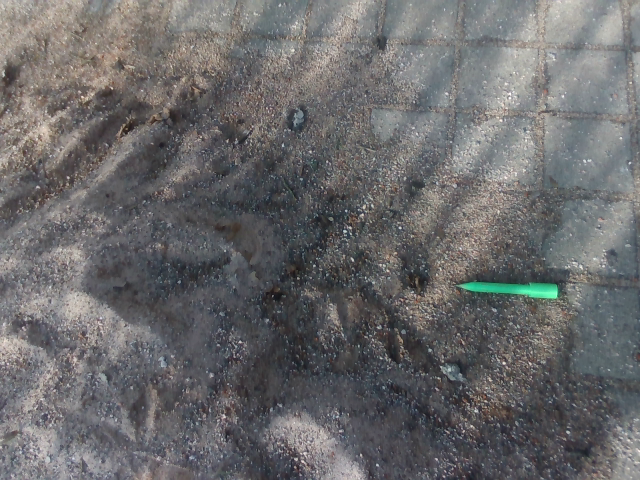Probe: (452, 274, 566, 303)
